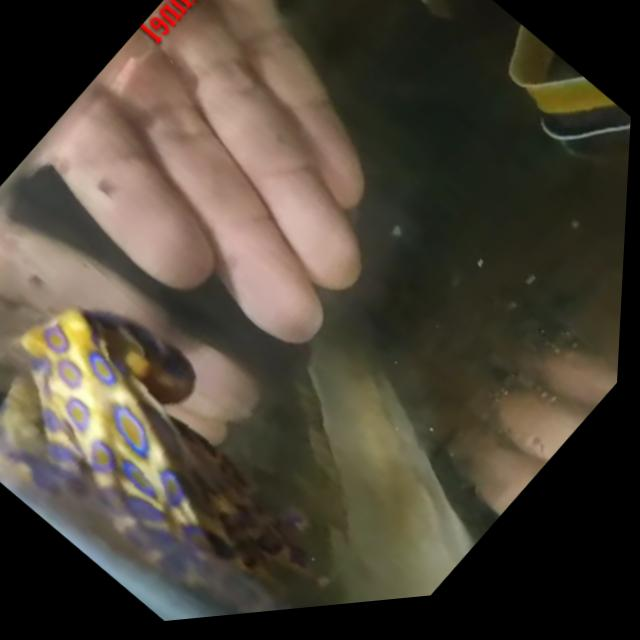blue_ringed_octopus: (0, 240, 403, 640)
